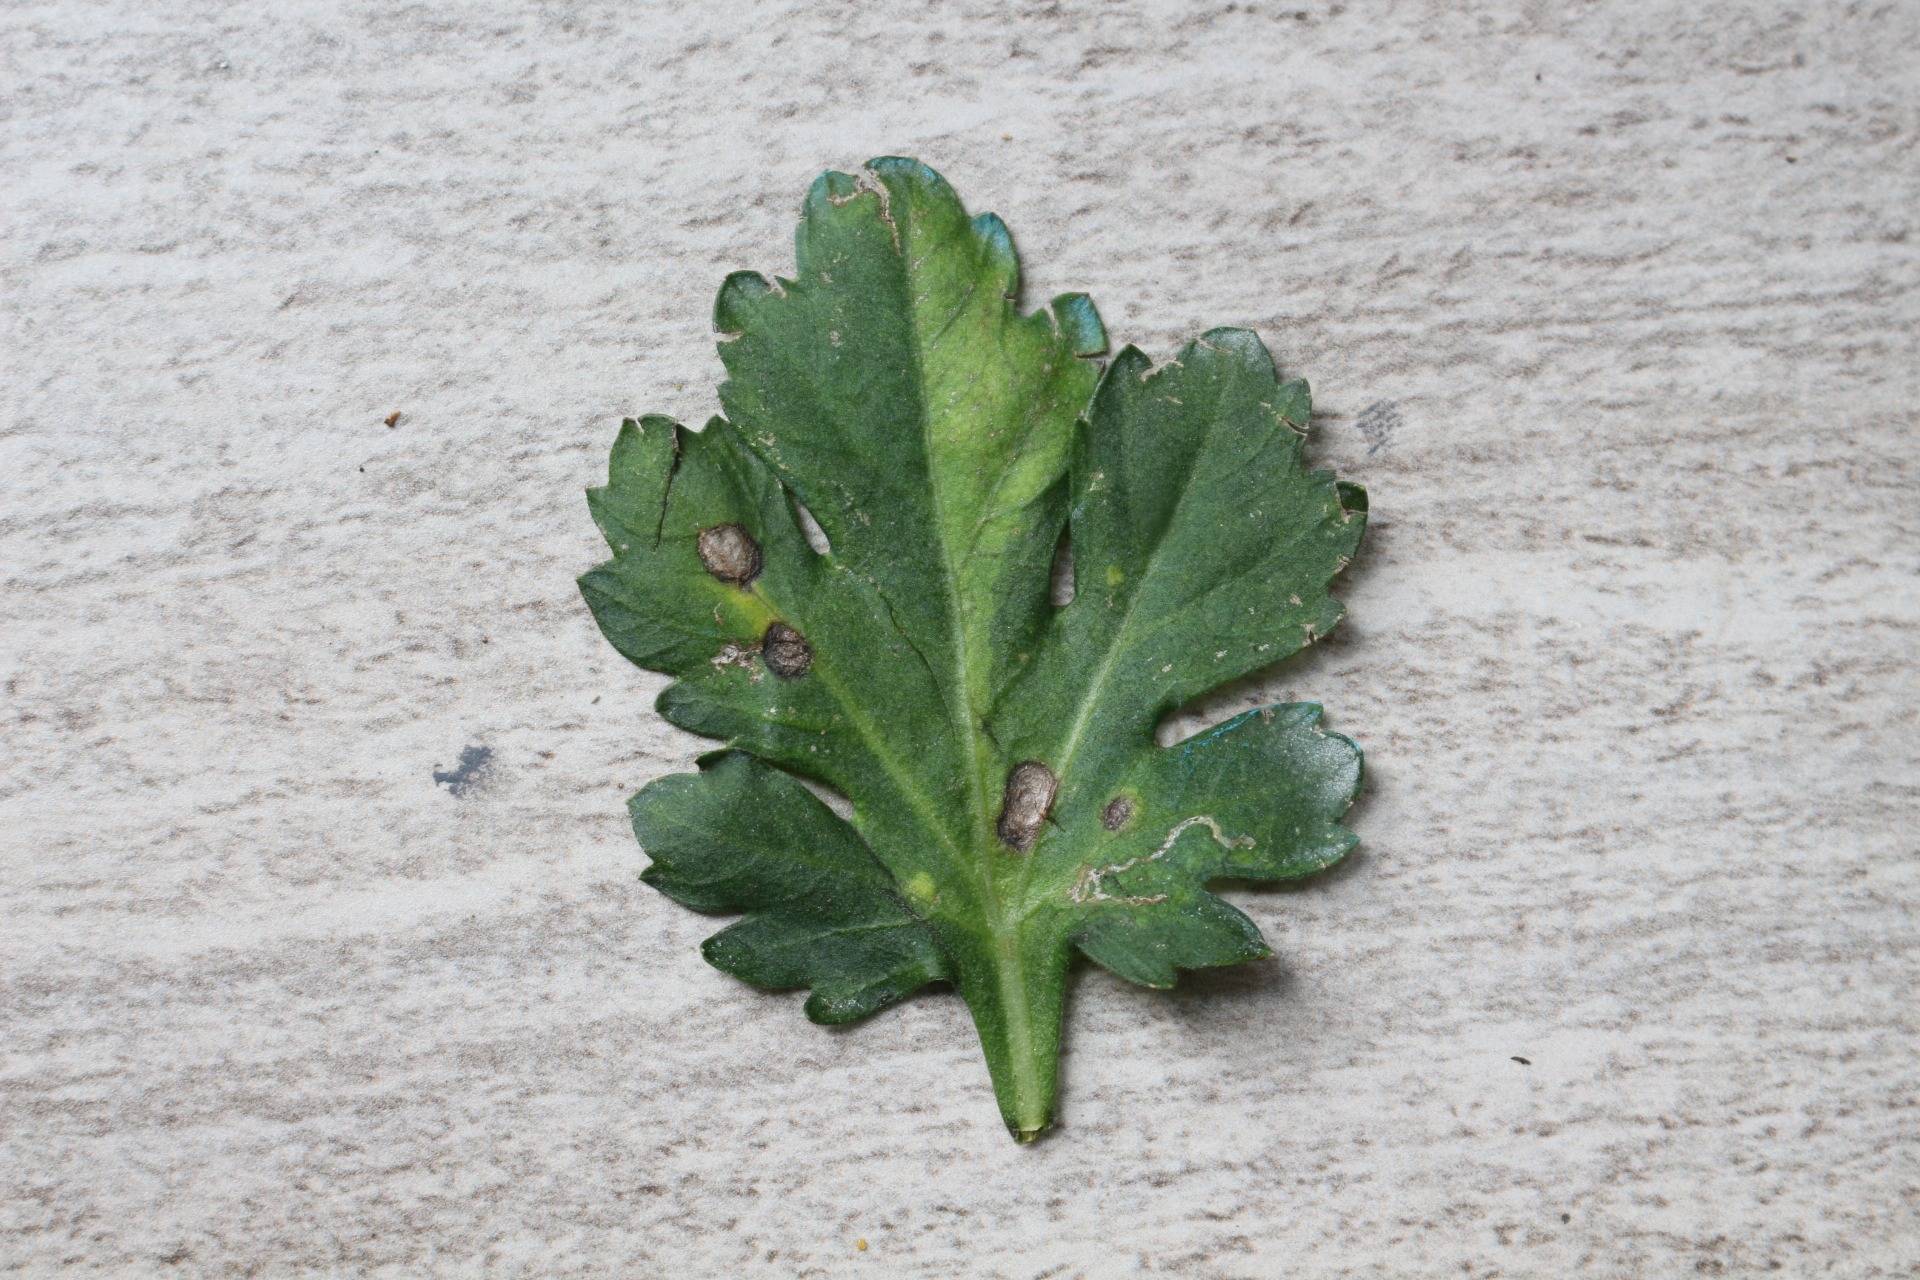namden: (990, 764, 1066, 851), (691, 517, 764, 591), (759, 621, 820, 679), (1101, 787, 1134, 839)
namsung: (909, 870, 939, 911), (1099, 561, 1131, 591)
